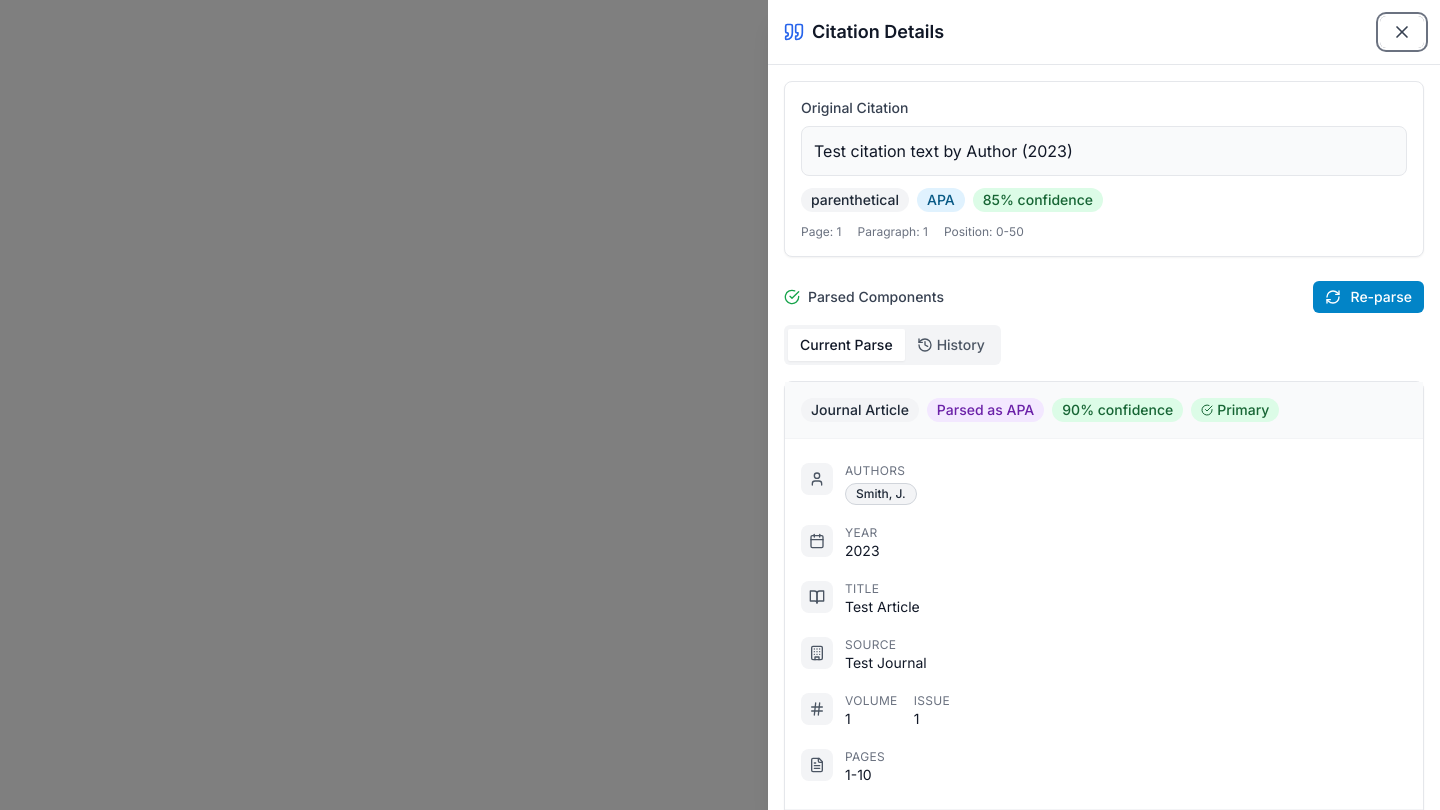
Test: CitationDetail › history tab › should show loading state while fetching history
This screenshot has width=1440, height=810.
Click the tab "History" at (951, 345), box [905,329,997,361]
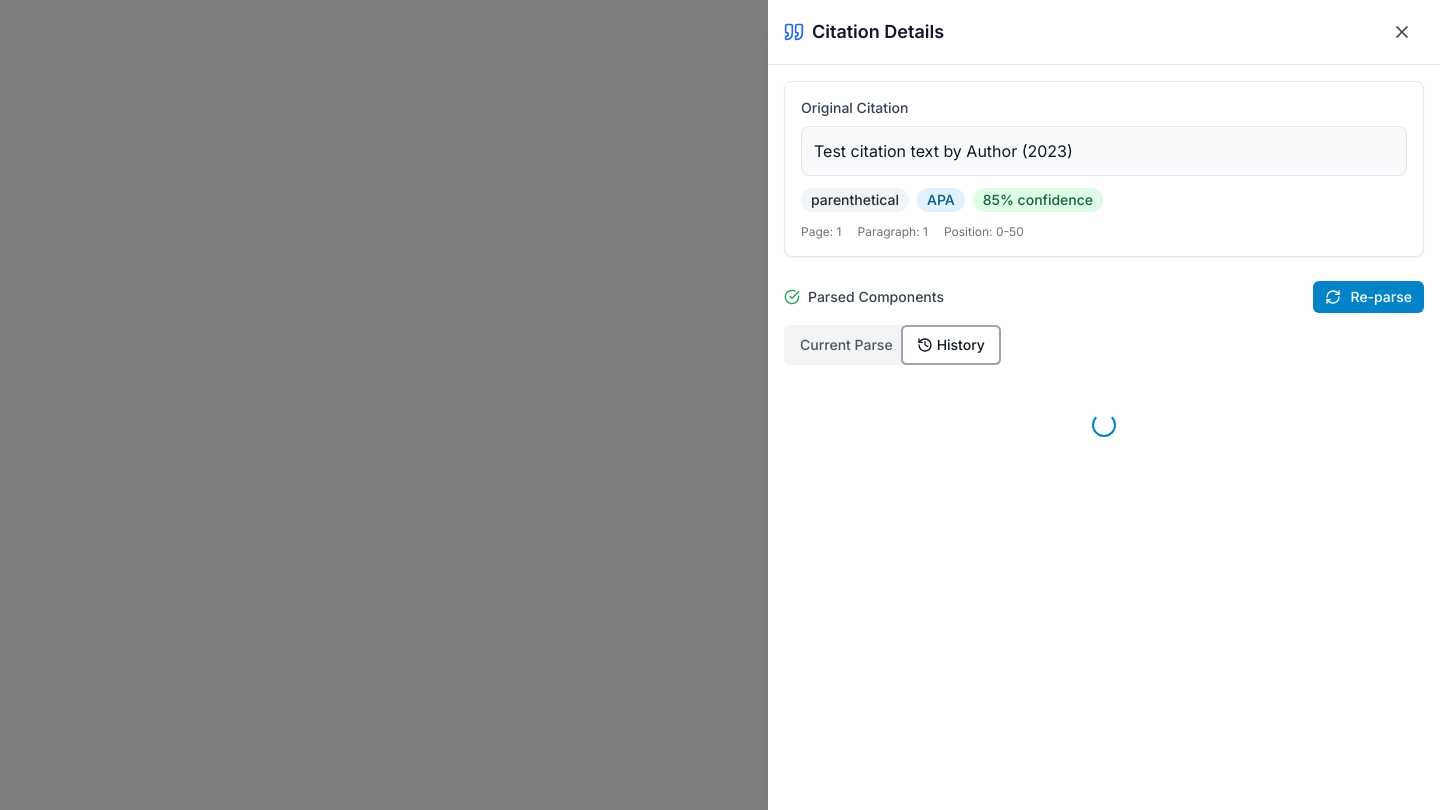
Now the message with class "animate-spin" is shown, box [1092,413,1116,437]
